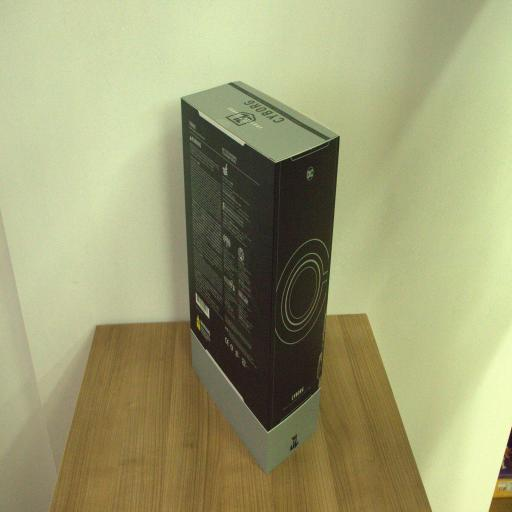Cyborg: (182, 80, 340, 474)
